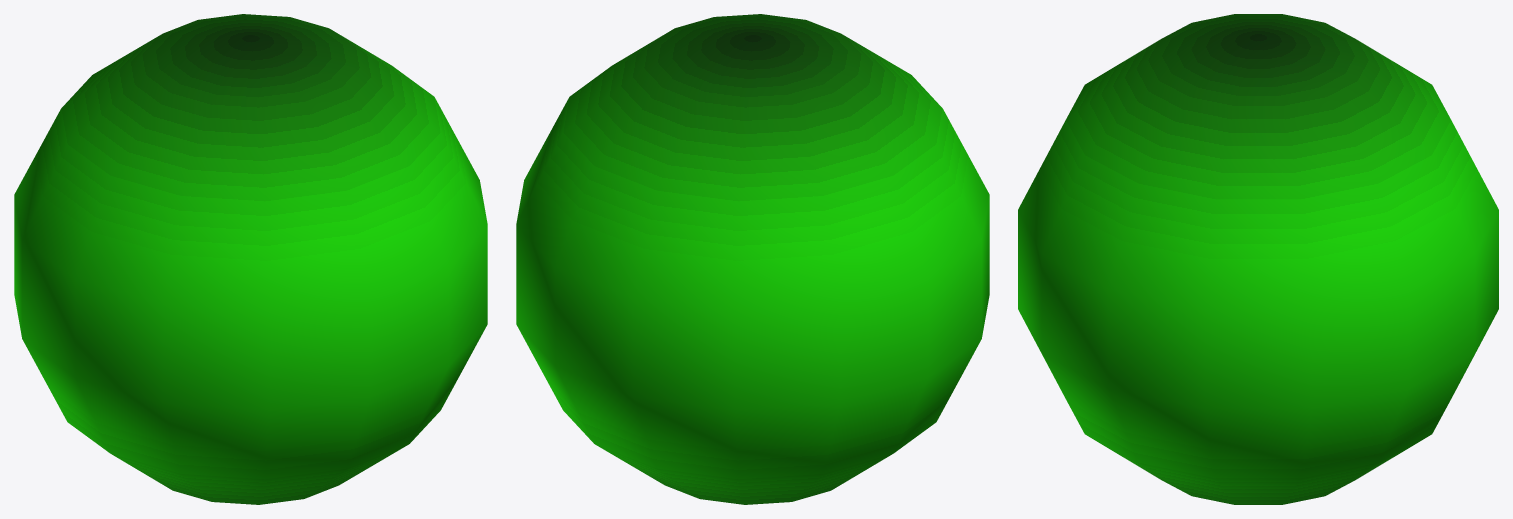
Rendered from MarkerSphere.FBX.
3 views of the same model, side by side, from view 1: azimuth 30°, elevation 25°; view 2: azimuth 150°, elevation 25°; view 3: azimuth 270°, elevation 25° (orthographic).
Parts seen in each view (by area): view 1: Sphere001; view 2: Sphere001; view 3: Sphere001.
Part boxes in pixels (box(x1,y1,x2,y2)): Sphere001: box(14, 14, 487, 504); Sphere001: box(516, 14, 989, 504); Sphere001: box(1018, 14, 1498, 504).
Size of the model in its own units: 42.77 by 45 by 43.87.
